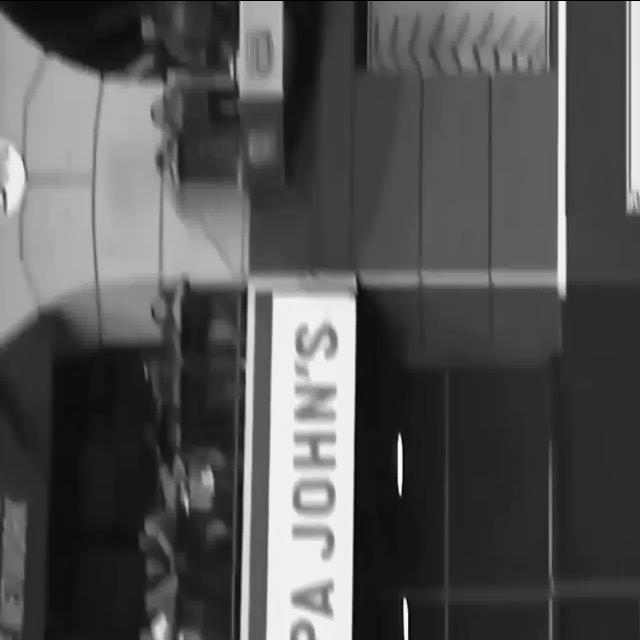shoe: (179, 485, 190, 523)
